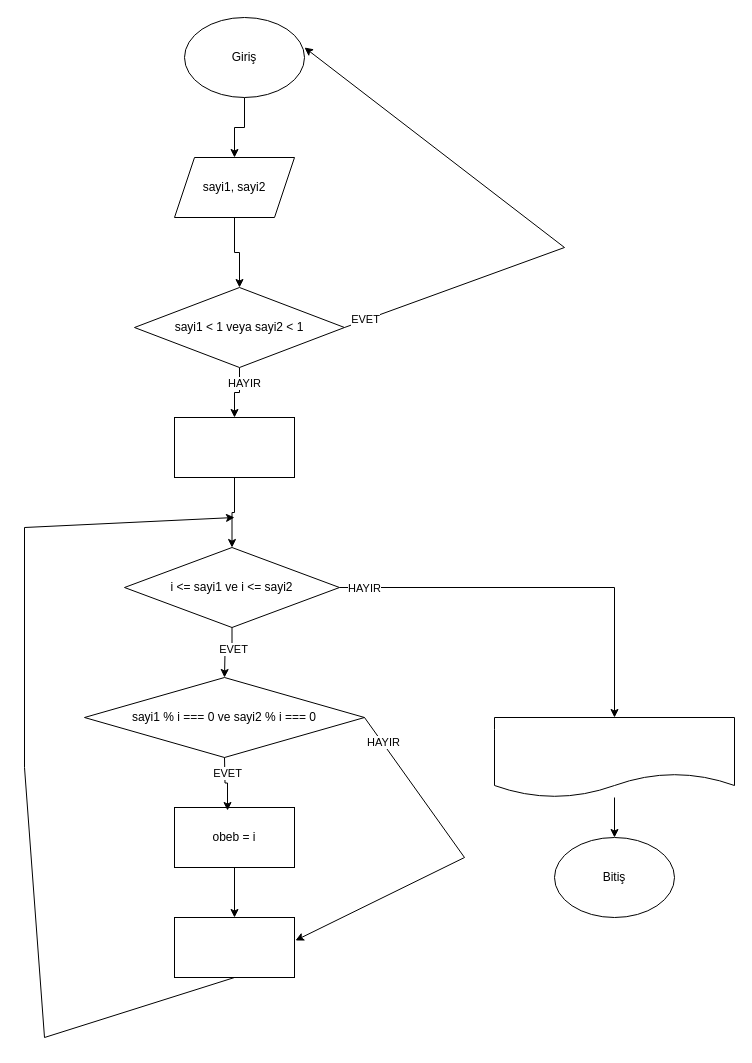
Image size: 752x1063. Some labels were removed from this diagram. Here are the shapes that lost their labels. From the top down, the centre of each, then its label:
At [234,447]: "obeb = 0 i = 1".
At [614,757]: "Girilen sayıların obeb'i = obeb".
At [234,947]: "i++".
